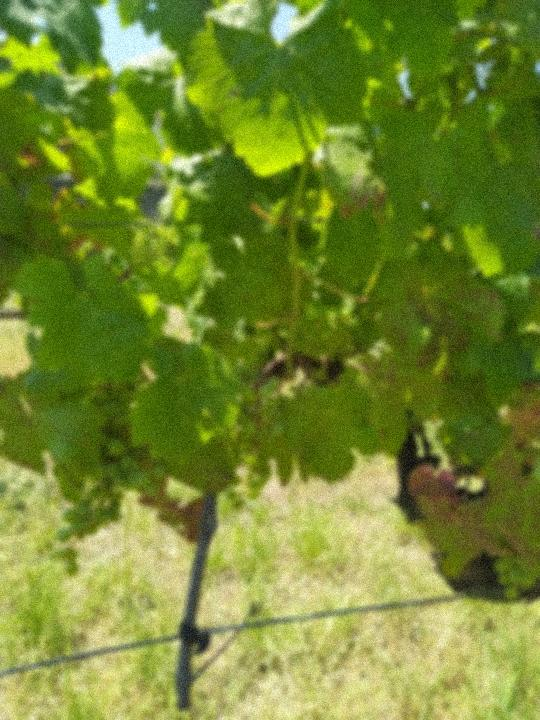grape: (50, 375, 168, 577)
